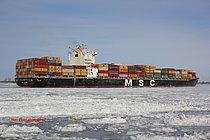Ship: (11, 35, 202, 92)
